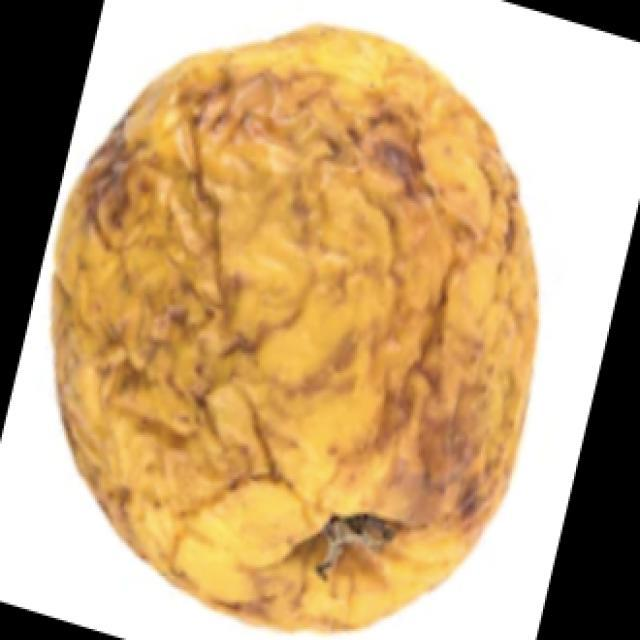Rotten: (65, 28, 555, 640)
